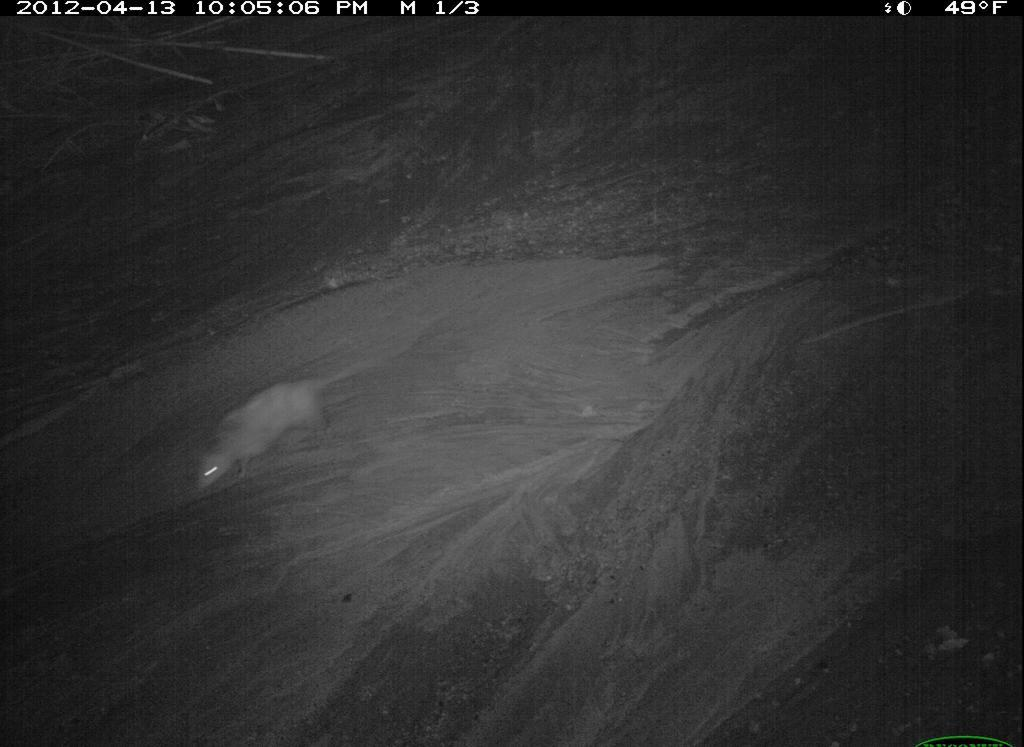opossum: (377, 722, 745, 747)
